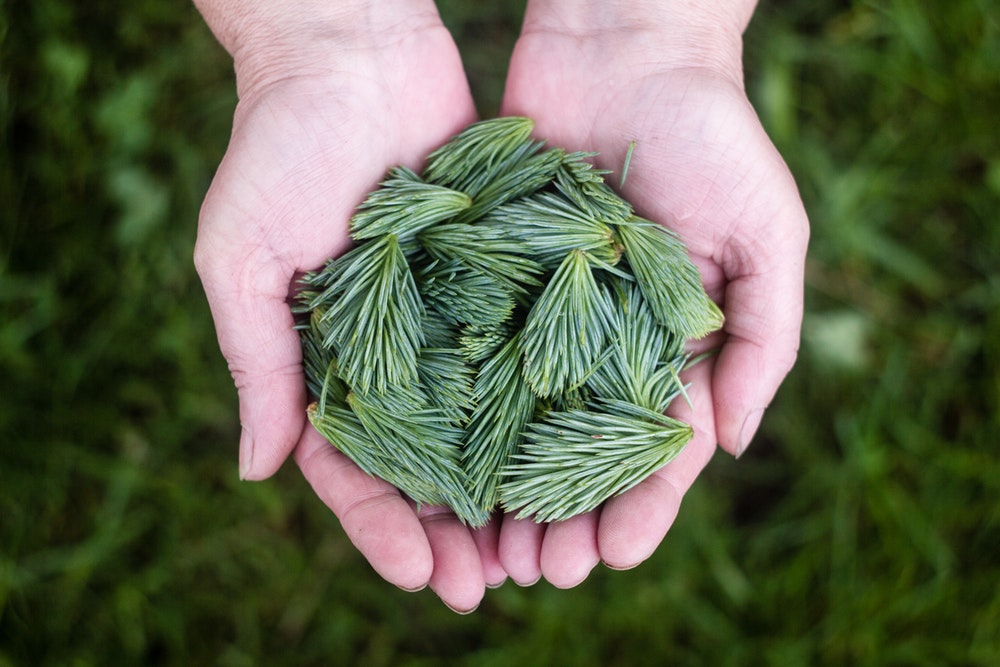palm: (245, 82, 470, 527), (528, 109, 728, 524)
